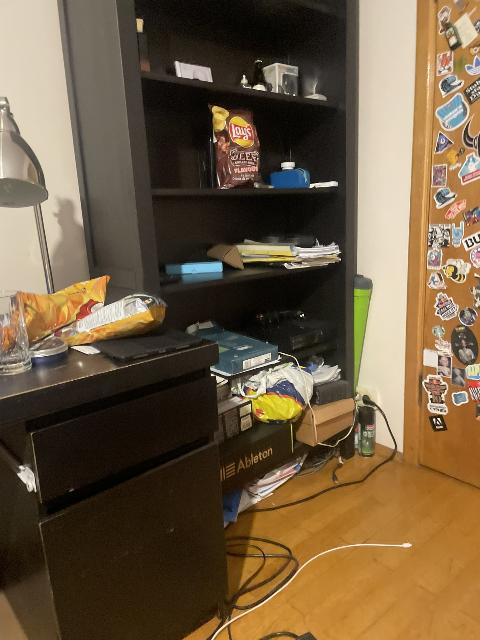Chio Cascaval 125g: (0, 277, 113, 347)
Chio Hula Hoops Cheese 70g: (59, 290, 168, 346)
Lays Beef Grilled Ribs 125g: (211, 103, 262, 188)
